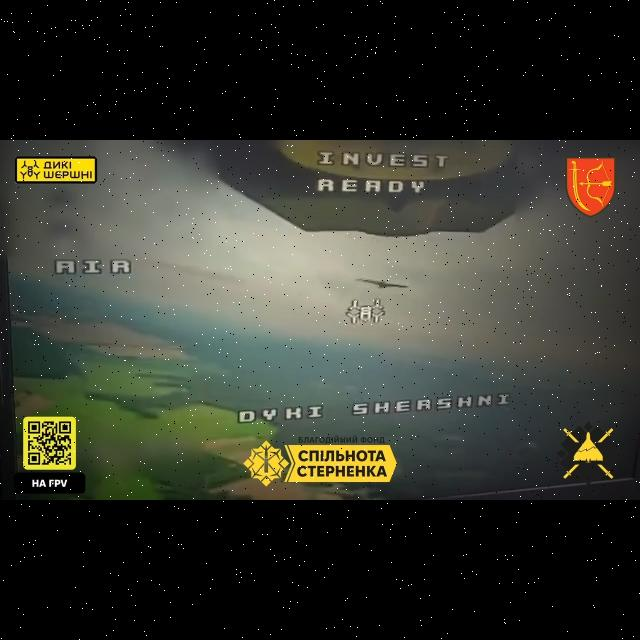Gerbera: (357, 278, 408, 290)
